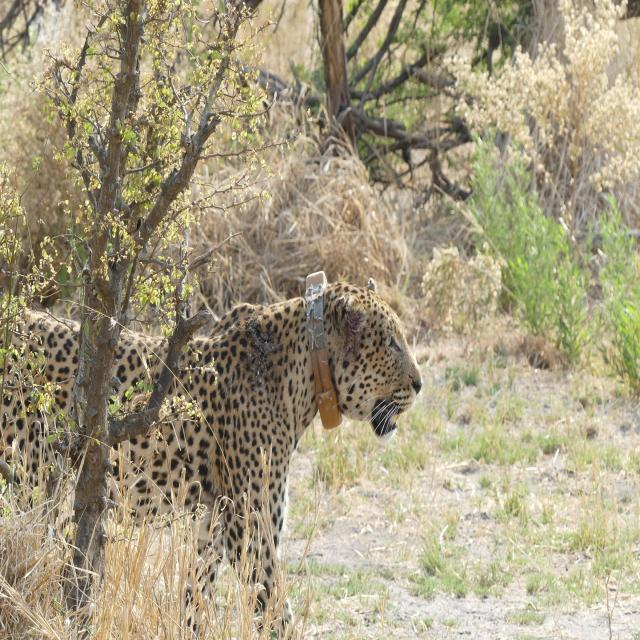Leopard: (6, 280, 424, 640)
